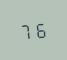seven: (19, 21, 32, 40)
six: (33, 20, 46, 38)
